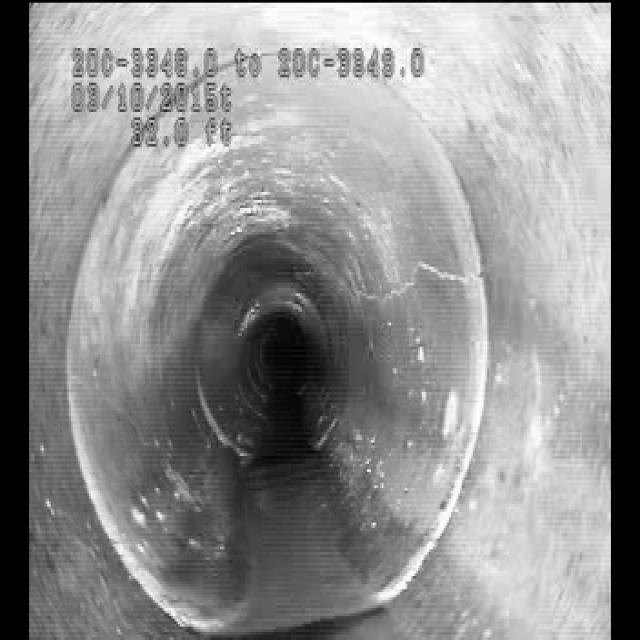Crack: (362, 231, 470, 326)
